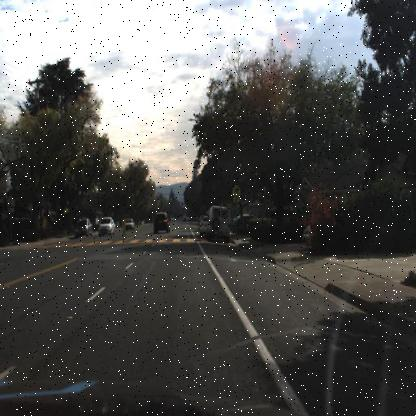car: (205, 204, 232, 244), (152, 210, 170, 237), (98, 216, 114, 237), (74, 219, 92, 237), (198, 215, 210, 234), (122, 218, 135, 232)
